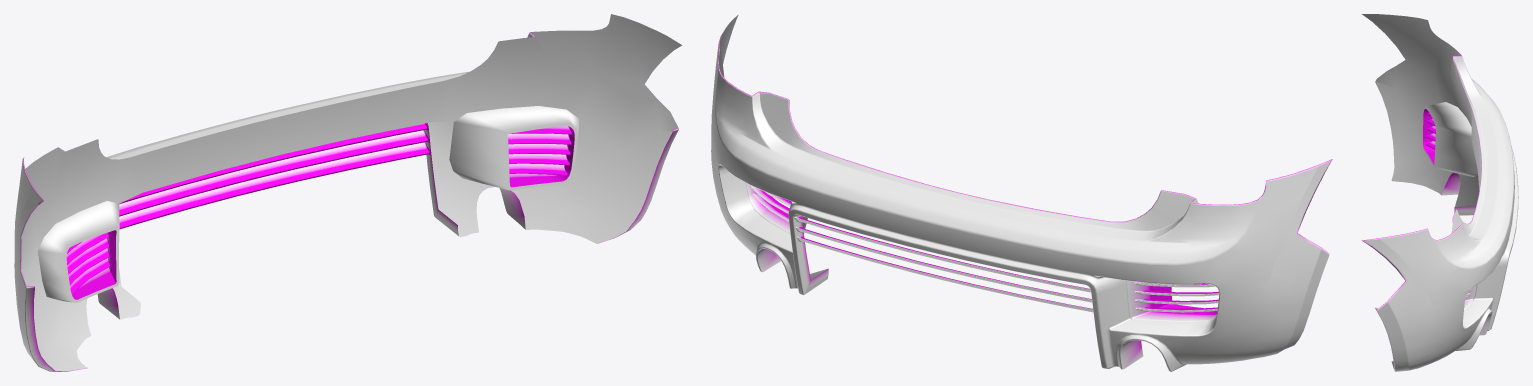
Rendered from Car_Mini_CountrymanJCW_2017_BumperR_SetD_AltA.fbx.
3 renders of one model, left to right at view 1: azimuth 30°, elevation 25°; view 2: azimuth 150°, elevation 25°; view 3: azimuth 270°, elevation 25°, orthographic. The views are drawn at different scales.
Visible parts, largest first — view 1: BumperR 6; view 2: BumperR 6; view 3: BumperR 6.
Boxes of the visible parts, <box> form: BumperR 6: <box>14,14,682,371</box>; BumperR 6: <box>711,14,1332,371</box>; BumperR 6: <box>1362,14,1518,371</box>.
Bounding box in the file's own units: 1.74 × 0.5203 × 0.4982.
